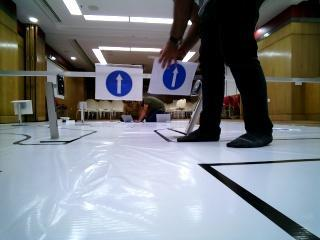straight: (95, 62, 141, 97), (153, 57, 195, 95)
